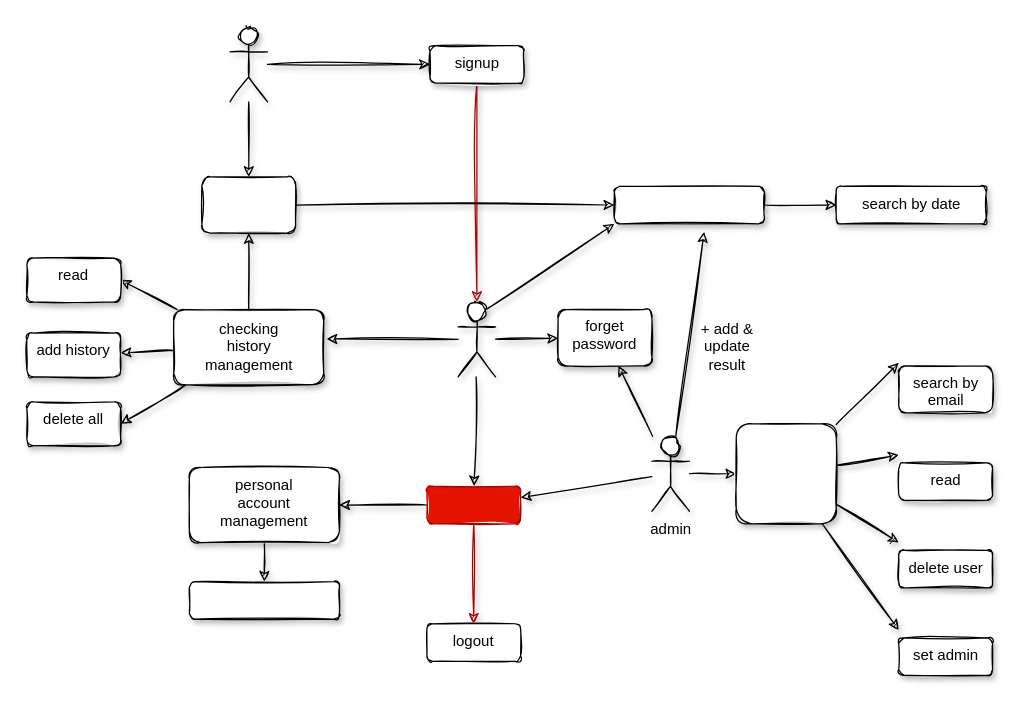
The diagram is 1023 pixels wide and 706 high, and some of its shapes have lost their labels. The centre of each missing label's shape, as x and y in pixels:
"change password" goes at [265,601].
"check the ticket" goes at [249,206].
"login" goes at [473,504].
"read lottory results" goes at [690,206].
"unregistered user" goes at [249,66].
"user" goes at [477,341].
"users management" goes at [787,475].
